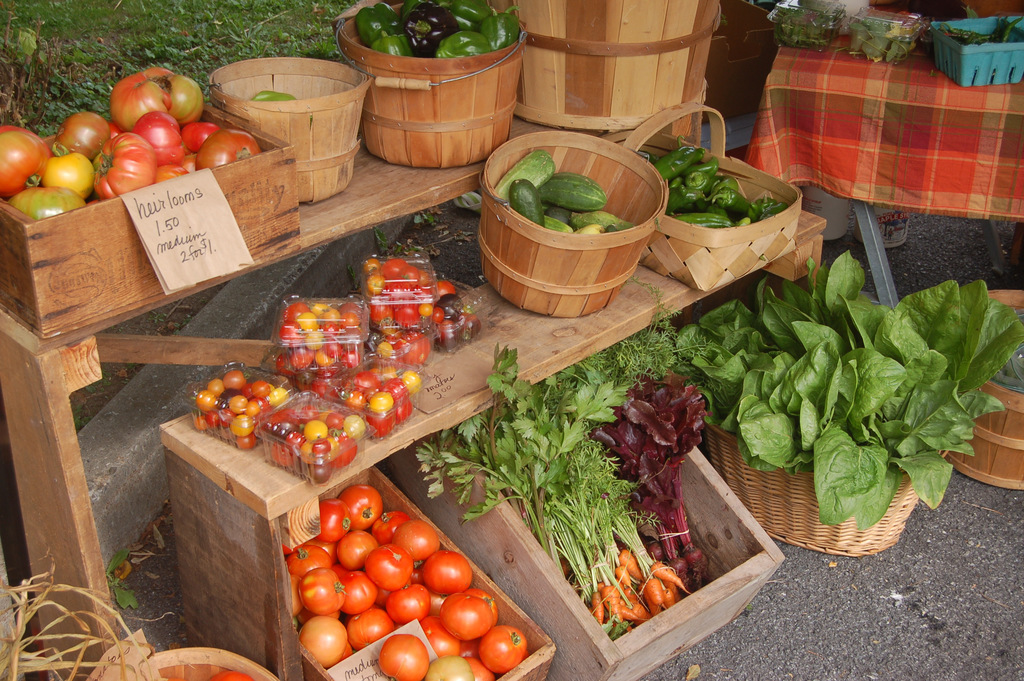Tomato: (193, 255, 471, 479), (281, 486, 528, 680), (0, 64, 262, 216), (394, 516, 439, 571)
